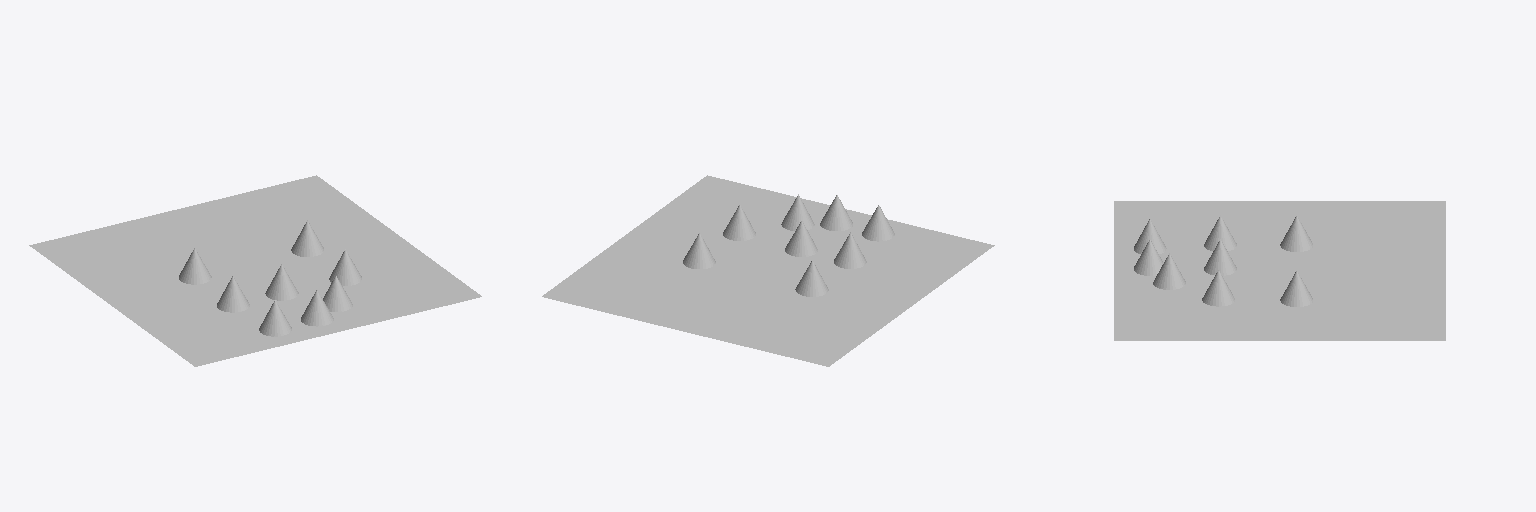
File: map.obj
3 renders of one model, left to right at view 1: azimuth 30°, elevation 25°; view 2: azimuth 150°, elevation 25°; view 3: azimuth 270°, elevation 25°, orthographic.
Parts seen in each view (by area): view 1: Plane, Cone.003, Cone.004, Cone.005, Cone.006, Cone.002, Cone.001, Cone.007, Cone; view 2: Plane, Cone.002, Cone.003, Cone.004, Cone.007, Cone.005, Cone.006, Cone.001, Cone; view 3: Plane, Cone, Cone.001, Cone.002, Cone.007, Cone.004, Cone.005, Cone.003, Cone.006.
Part boxes in pixels (bbox=[...]): Plane: bbox=[29, 175, 481, 366]; Cone.003: bbox=[217, 276, 249, 312]; Cone.004: bbox=[265, 264, 298, 300]; Cone.005: bbox=[301, 290, 333, 326]; Cone.006: bbox=[259, 300, 291, 336]; Cone.002: bbox=[179, 248, 211, 284]; Cone.001: bbox=[291, 220, 323, 256]; Cone.007: bbox=[329, 249, 361, 285]; Cone: bbox=[323, 276, 352, 311]; Plane: bbox=[542, 175, 994, 366]; Cone.002: bbox=[795, 260, 828, 296]; Cone.003: bbox=[834, 232, 866, 268]; Cone.004: bbox=[785, 221, 817, 256]; Cone.007: bbox=[723, 205, 755, 240]; Cone.005: bbox=[820, 195, 852, 230]; Cone.006: bbox=[862, 205, 894, 241]; Cone.001: bbox=[683, 233, 715, 268]; Cone: bbox=[781, 194, 814, 230]; Plane: bbox=[1114, 201, 1445, 340]; Cone: bbox=[1153, 253, 1185, 289]; Cone.001: bbox=[1280, 271, 1312, 306]; Cone.002: bbox=[1280, 216, 1312, 251]; Cone.007: bbox=[1202, 270, 1234, 306]; Cone.004: bbox=[1204, 239, 1236, 275]; Cone.005: bbox=[1134, 240, 1163, 275]; Cone.003: bbox=[1204, 215, 1236, 250]; Cone.006: bbox=[1134, 219, 1166, 253].
Bounding box in the file's own units: 20 × 2.02 × 20.